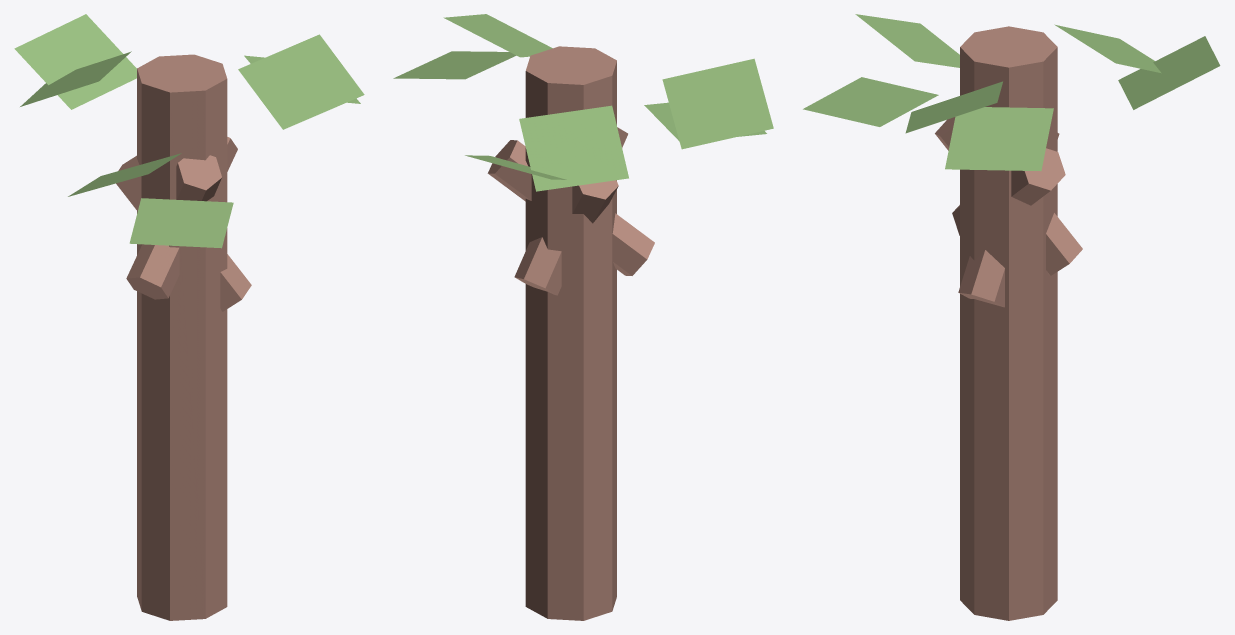
File: cherry_sapling.glb
The picture shows the model from 3 angles, left to right: view 1: azimuth 30°, elevation 25°; view 2: azimuth 150°, elevation 25°; view 3: azimuth 270°, elevation 25°; orthographic projection. The views are drawn at different scales.
Visible parts, largest first — view 1: CherrySapling_trunk.001, CherrySapling_leaf_4, CherrySapling_leaf_2, CherrySapling_leaf_3, CherrySapling_branch_2, CherrySapling_branch_1, CherrySapling_branch_3, CherrySapling_leaf_5, CherrySapling_leaf_6; view 2: CherrySapling_trunk.001, CherrySapling_leaf_5, CherrySapling_leaf_6, CherrySapling_branch_2, CherrySapling_leaf_1, CherrySapling_branch_1, CherrySapling_leaf_4, CherrySapling_branch_3, CherrySapling_leaf_3, CherrySapling_leaf_2; view 3: CherrySapling_trunk.001, CherrySapling_leaf_1, CherrySapling_leaf_3, CherrySapling_leaf_2, CherrySapling_leaf_6, CherrySapling_branch_3, CherrySapling_branch_2, CherrySapling_leaf_4, CherrySapling_branch_1, CherrySapling_leaf_5.
Part boxes in pixels (x1,y1,x2,y2): CherrySapling_trunk.001: (137,54,227,620); CherrySapling_leaf_4: (238,34,364,129); CherrySapling_leaf_2: (14,14,136,109); CherrySapling_leaf_3: (129,198,233,248); CherrySapling_branch_2: (126,137,237,299); CherrySapling_branch_1: (176,155,221,201); CherrySapling_branch_3: (116,155,251,311); CherrySapling_leaf_5: (20,51,131,106); CherrySapling_leaf_6: (68,153,181,196); CherrySapling_trunk.001: (525,46,616,620); CherrySapling_leaf_5: (519,105,628,191); CherrySapling_leaf_6: (662,58,773,149); CherrySapling_branch_2: (487,140,654,275); CherrySapling_leaf_1: (393,51,516,79); CherrySapling_branch_1: (514,127,627,295); CherrySapling_leaf_4: (443,14,552,57); CherrySapling_branch_3: (572,180,618,223); CherrySapling_leaf_3: (644,102,766,141); CherrySapling_leaf_2: (465,155,566,179); CherrySapling_trunk.001: (960,26,1057,620); CherrySapling_leaf_1: (945,107,1053,171); CherrySapling_leaf_3: (803,77,938,126); CherrySapling_leaf_2: (1118,36,1220,109); CherrySapling_leaf_6: (855,14,959,67); CherrySapling_branch_3: (958,133,1059,307); CherrySapling_branch_2: (952,148,1065,235); CherrySapling_leaf_4: (905,81,1002,133); CherrySapling_branch_1: (935,117,1082,275); CherrySapling_leaf_5: (1054,24,1161,73).
Size of the model in its own units: 0.3146 by 0.5104 by 0.3424.
